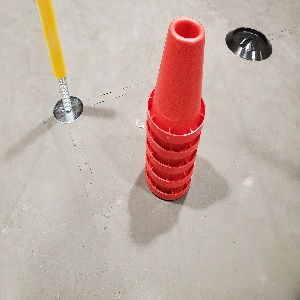Red_5: (139, 13, 209, 204)
